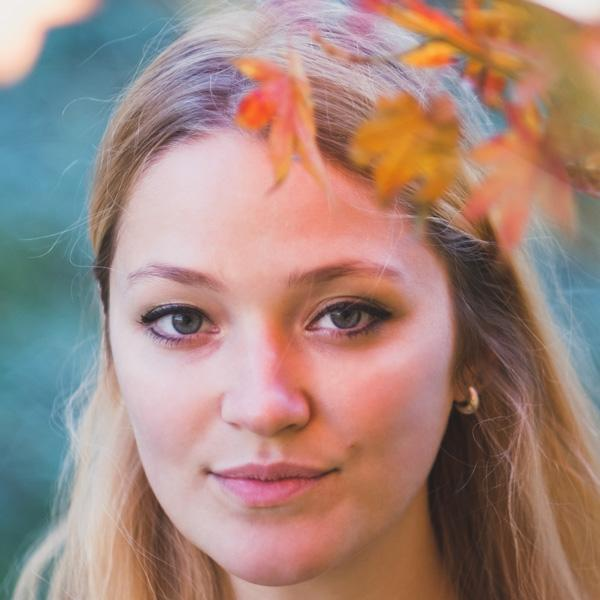Eyes: (293, 286, 395, 351), (128, 292, 227, 355)
